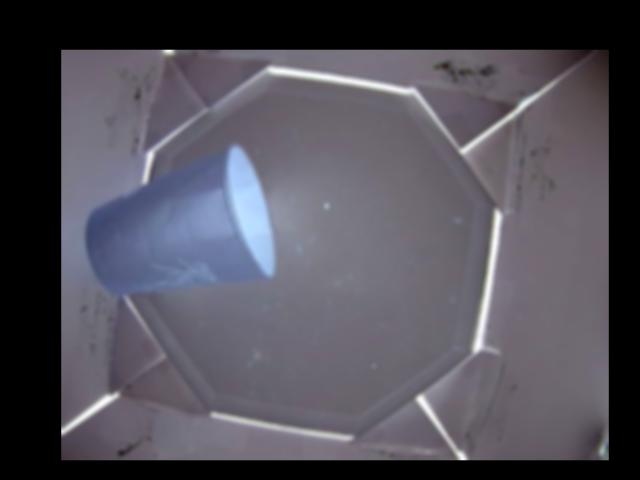Cup: (86, 142, 274, 292)
